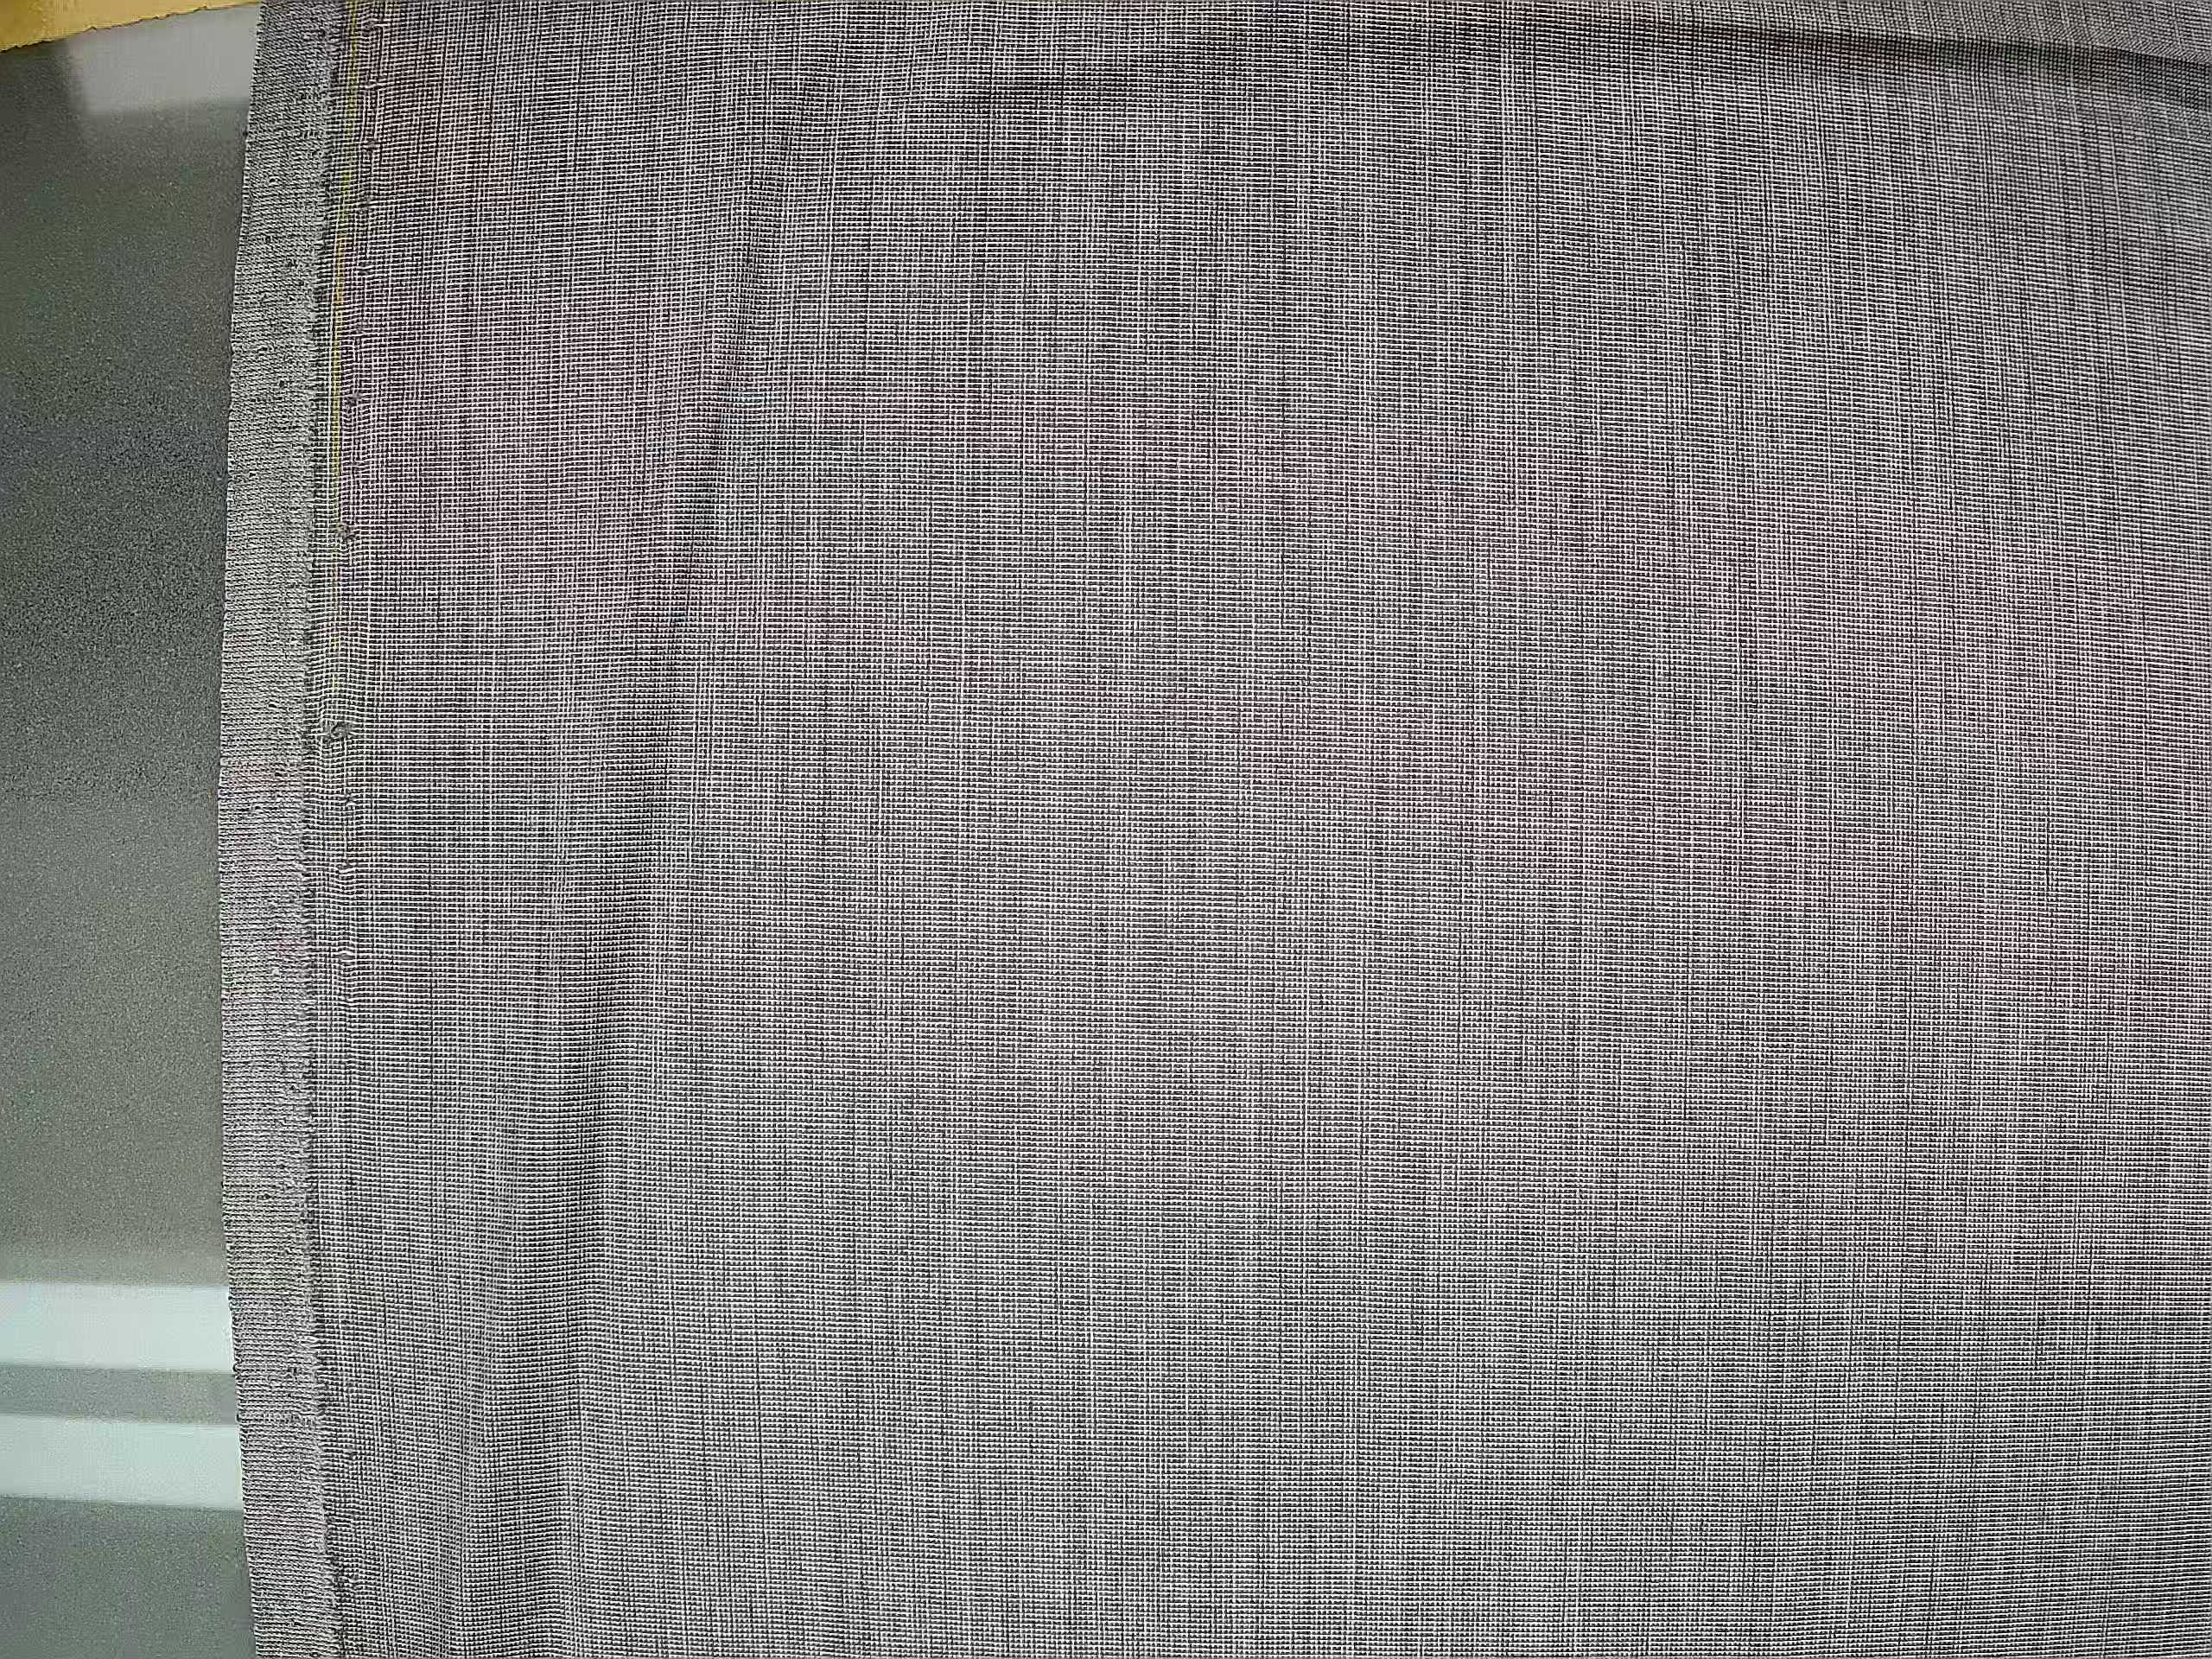puncture-hole: (303, 714, 388, 899), (324, 366, 378, 570)
